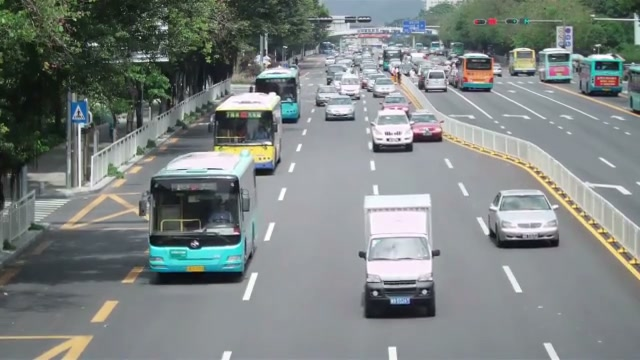bus: (138, 150, 260, 278), (213, 92, 283, 173), (253, 66, 301, 123), (576, 54, 624, 96), (456, 52, 495, 91), (537, 48, 572, 84), (509, 48, 538, 76)
car: (486, 189, 560, 248), (369, 109, 415, 152), (409, 112, 444, 142), (381, 92, 413, 119), (325, 97, 356, 121), (423, 70, 448, 93), (370, 76, 396, 97), (315, 85, 339, 106), (492, 65, 503, 77)
pedestrian: (206, 196, 233, 224)
truck: (359, 194, 440, 318), (626, 63, 640, 112)
